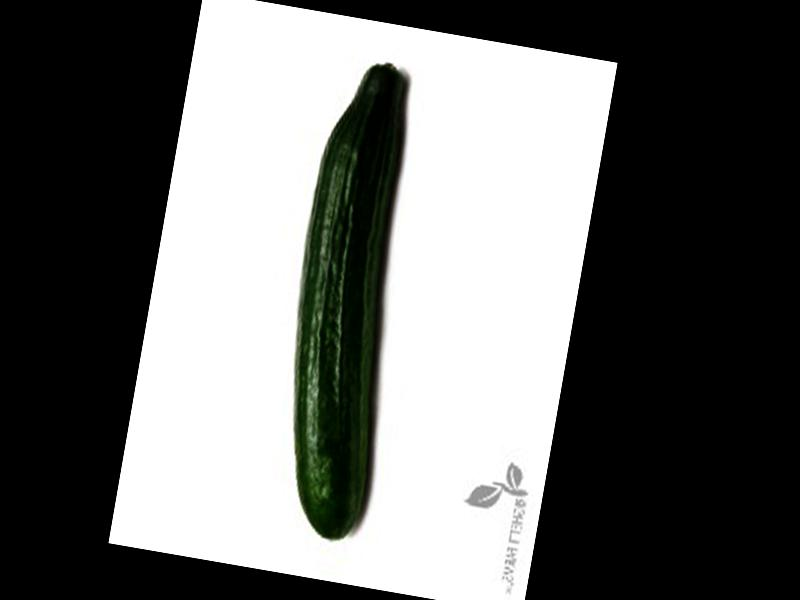Cucumber: (257, 55, 437, 546)
